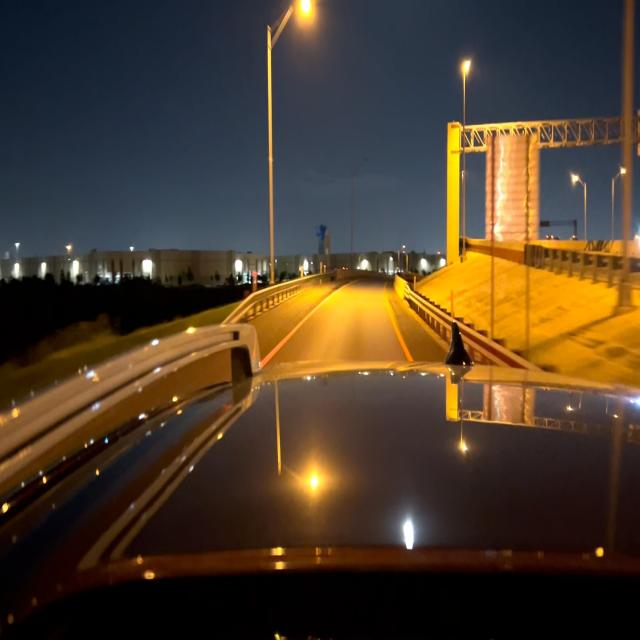back-of-sign: (488, 132, 539, 242)
